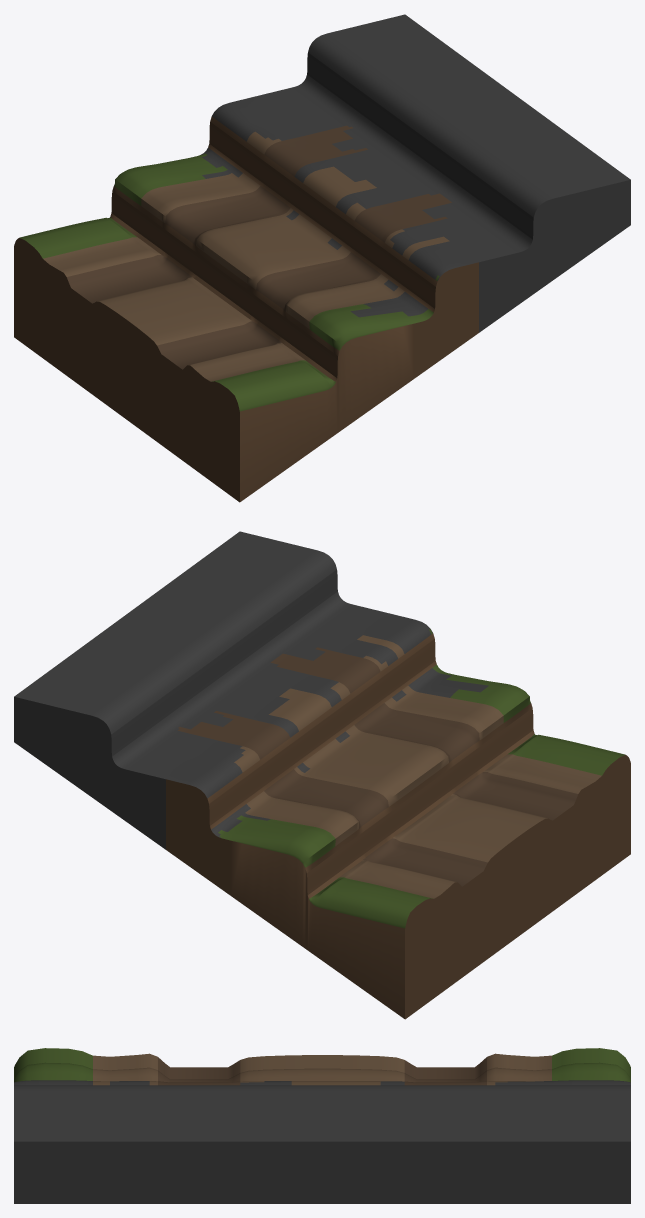
The picture shows the model from 3 angles, top to bottom: view 1: azimuth 30°, elevation 25°; view 2: azimuth 150°, elevation 25°; view 3: azimuth 270°, elevation 25°; orthographic projection. The views are drawn at different scales.
Visible parts, largest first — view 1: s1t; view 2: s1t; view 3: s1t.
Part boxes in pixels (<box>): s1t: <box>14,14,630,502</box>; s1t: <box>14,531,630,1019</box>; s1t: <box>14,1048,630,1203</box>.
Size of the model in its own units: 9 by 5 by 9.
